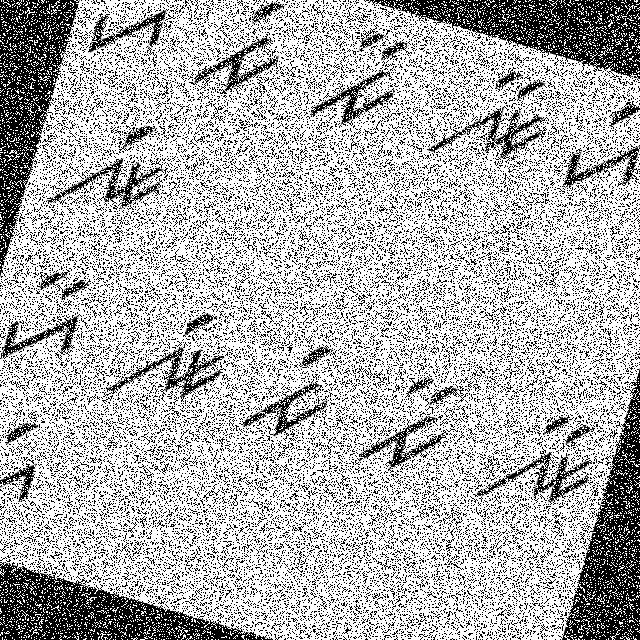han: (0, 245, 103, 377), (80, 0, 185, 73)
hang: (553, 89, 639, 213), (0, 402, 59, 536)
mban: (293, 12, 420, 141), (347, 360, 463, 493)
mbang: (233, 320, 349, 454), (180, 0, 299, 106)
ndan: (471, 387, 613, 531), (422, 50, 562, 188)
ndang: (100, 272, 246, 422), (37, 90, 180, 234)
